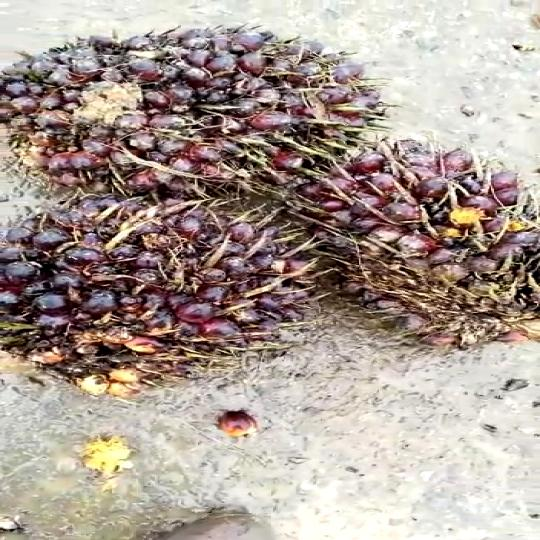kurang masak: (0, 179, 301, 433), (1, 16, 342, 196), (309, 134, 540, 380)
